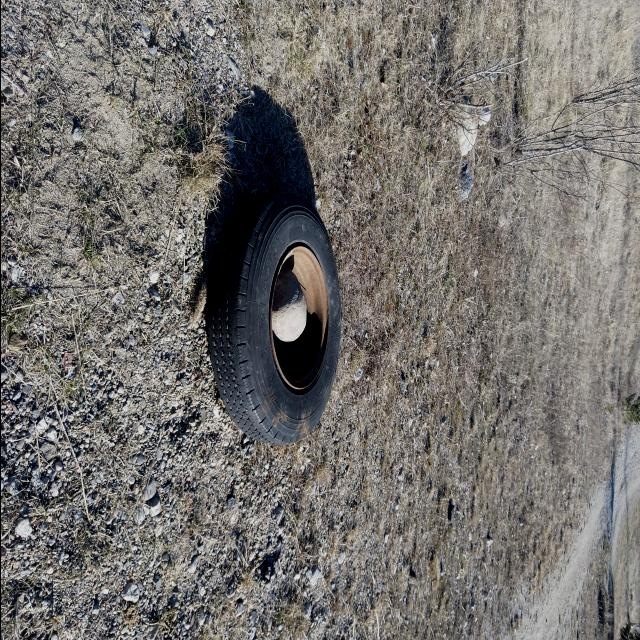Unlabeled litter: (206, 191, 340, 446)
